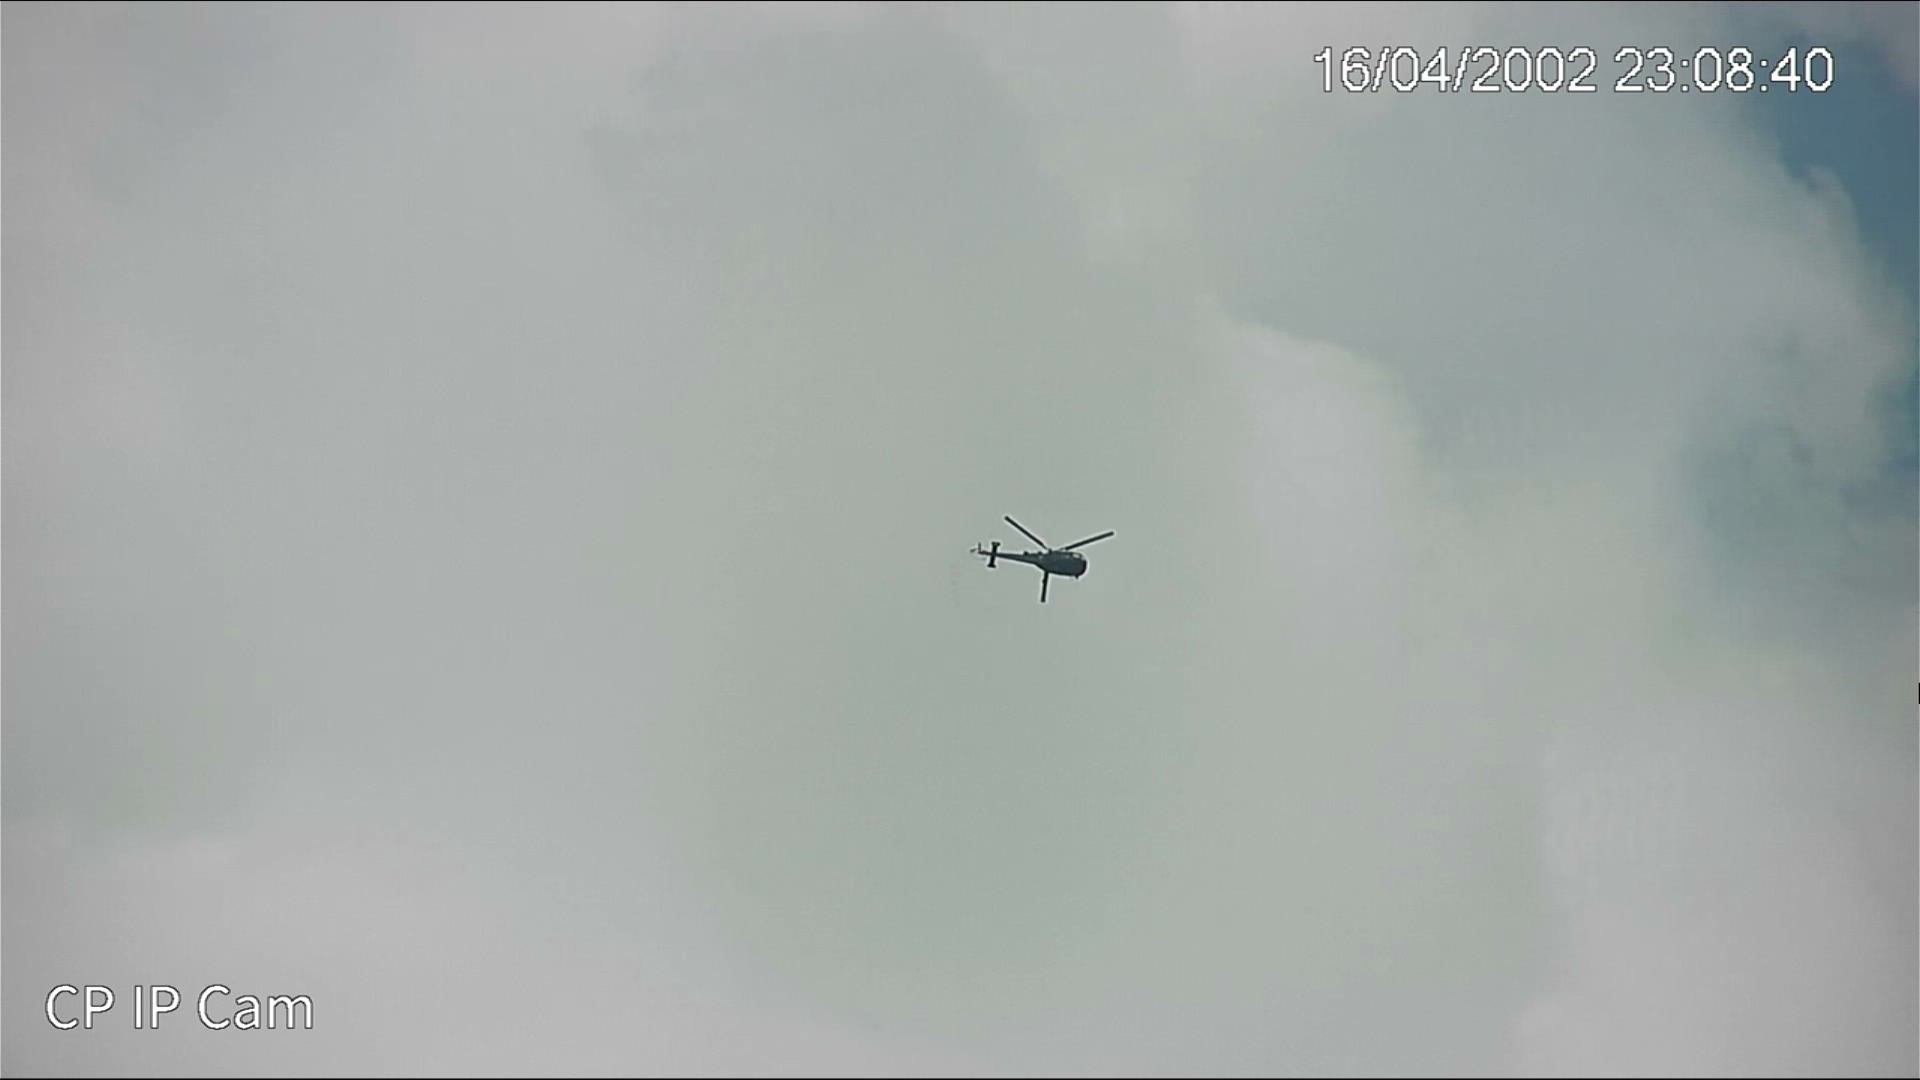SU_30: (965, 537, 1093, 589)
